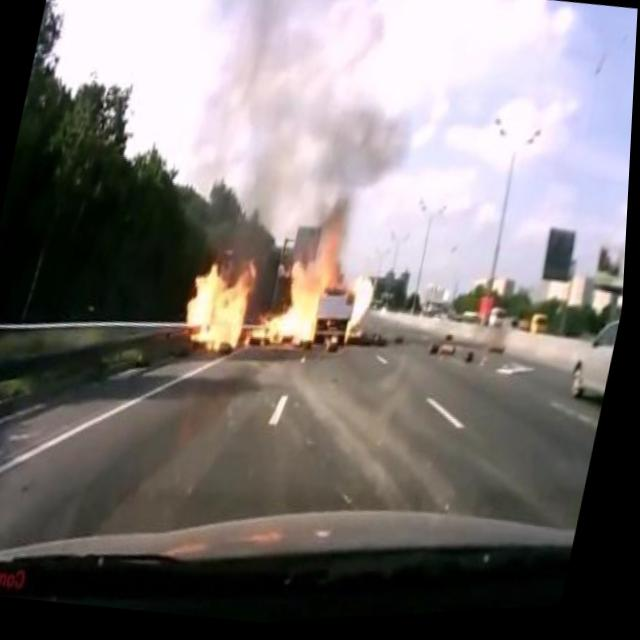fire: (175, 206, 347, 381), (343, 268, 385, 345)
